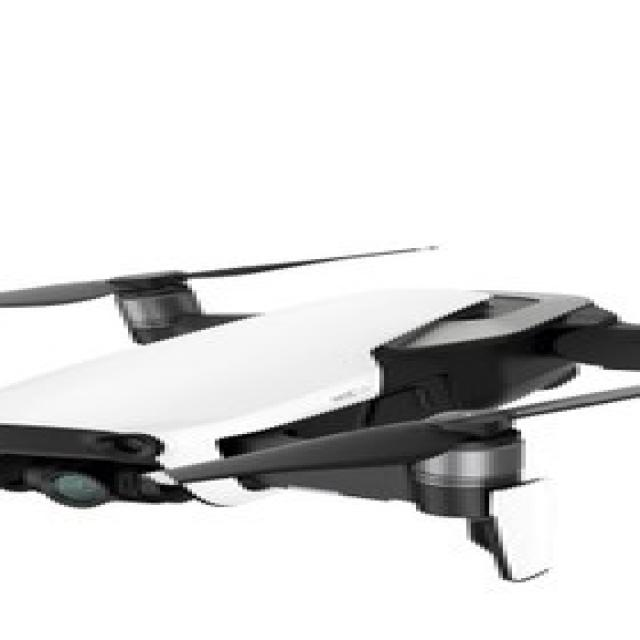drone: (0, 239, 640, 547)
